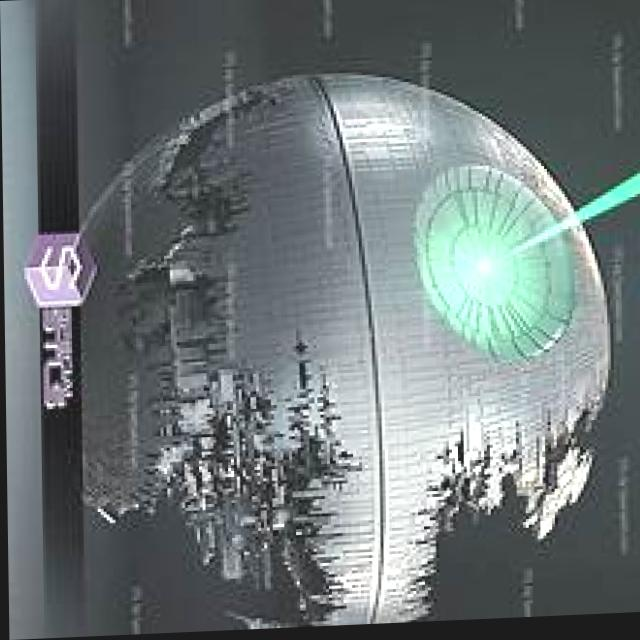deathStar: (62, 67, 613, 638)
